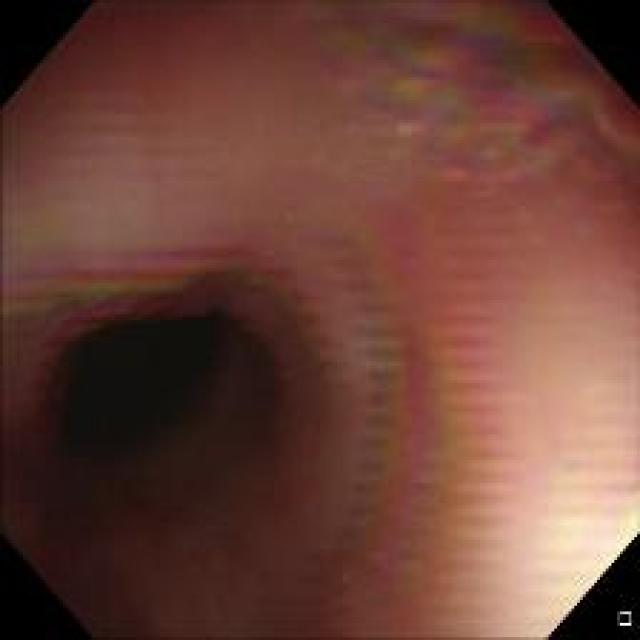blur: (8, 5, 636, 634)
color misalignment: (15, 201, 492, 634), (334, 6, 621, 188)
contrast: (18, 249, 340, 600)
saturation: (540, 534, 632, 630)
